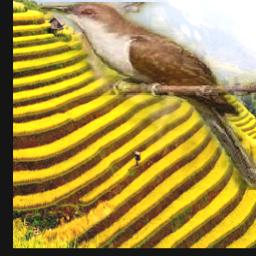Cuckoo: (39, 2, 256, 190)
